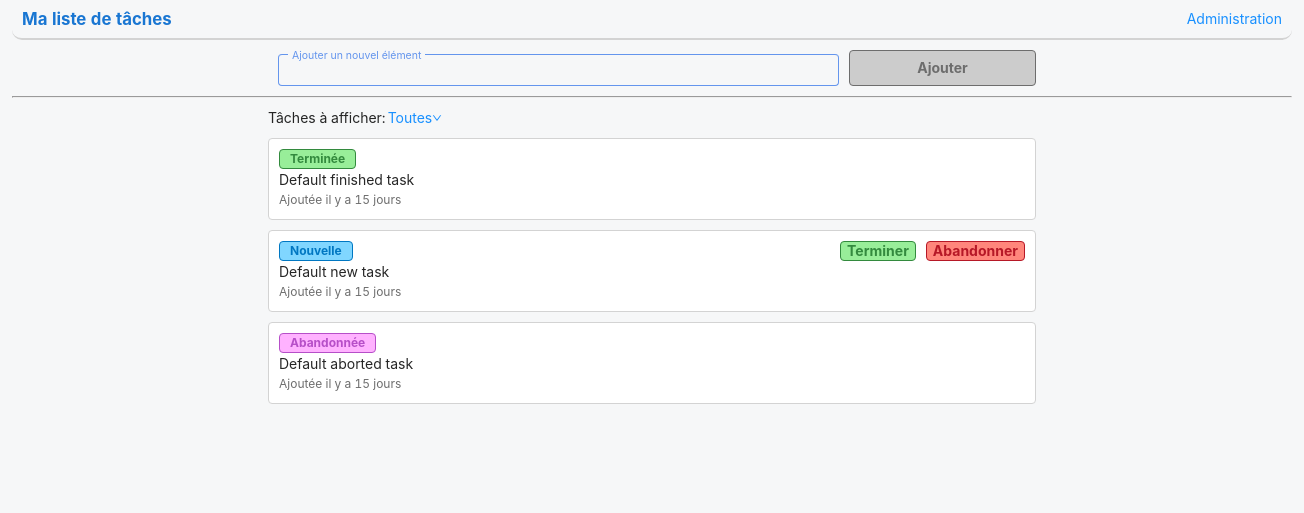
Todo list app › Display aborted todo list after add element
The image size is (1304, 513).
Type "Task added by Cypress :)" into the field with class "add-todo-item-input" at [559, 70], box [278,54,839,86]
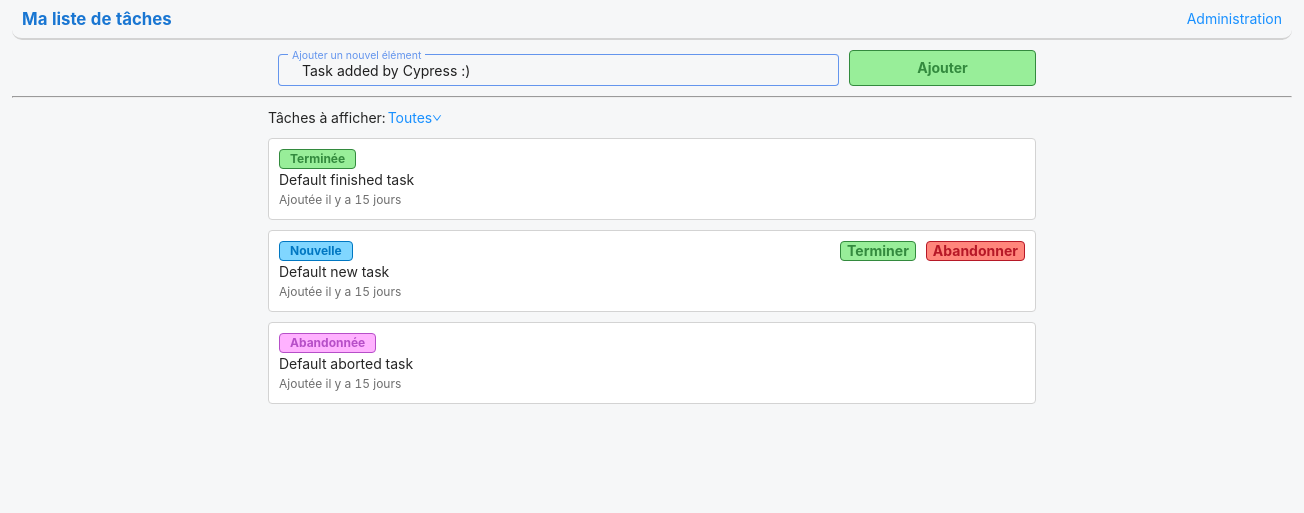
Press Enter in the field with class "add-todo-item-input", box [278,54,839,86]
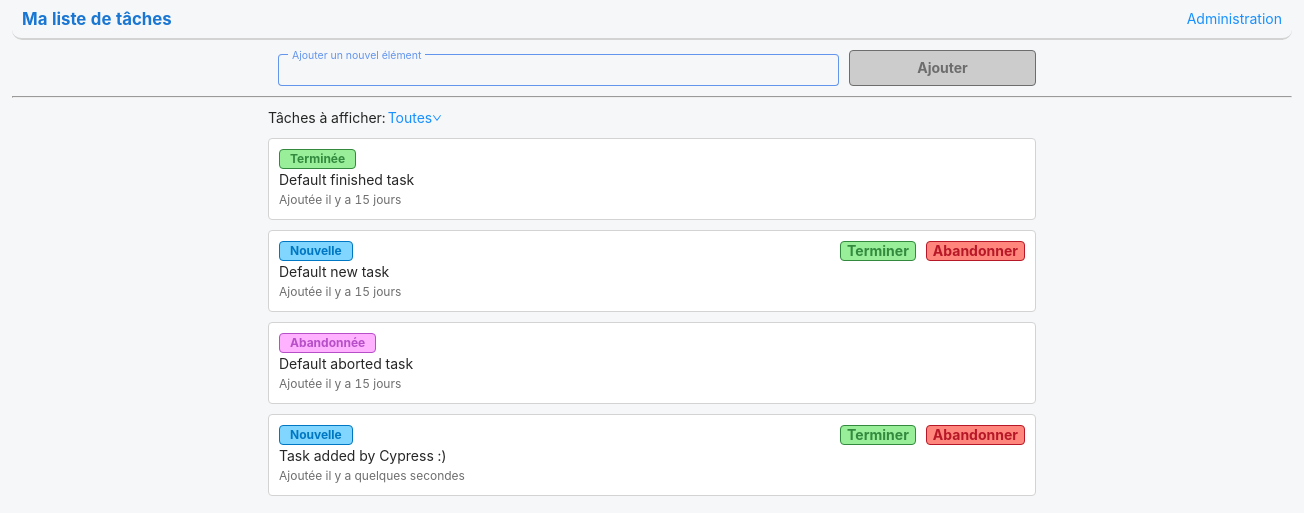
Click the 1st button with class "button-red" at [976, 251], box [926,241,1025,261]
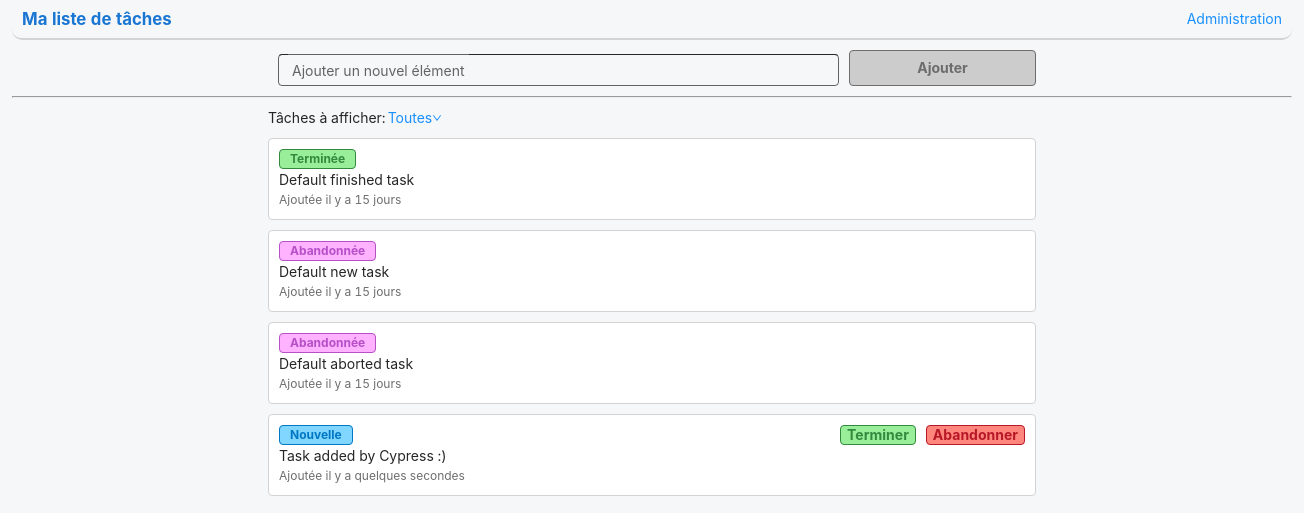
Click the link with class "filters-dropdown" at [416, 118], box [388,107,443,129]
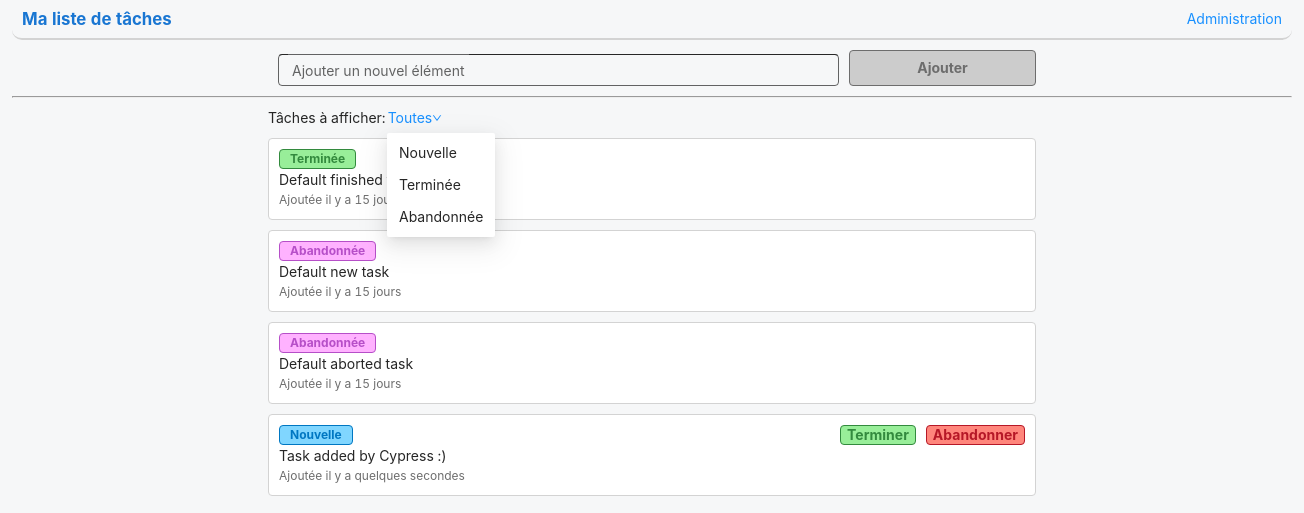
Click the link with class "aborted-filter-element" at [441, 217], box [399,208,483,225]
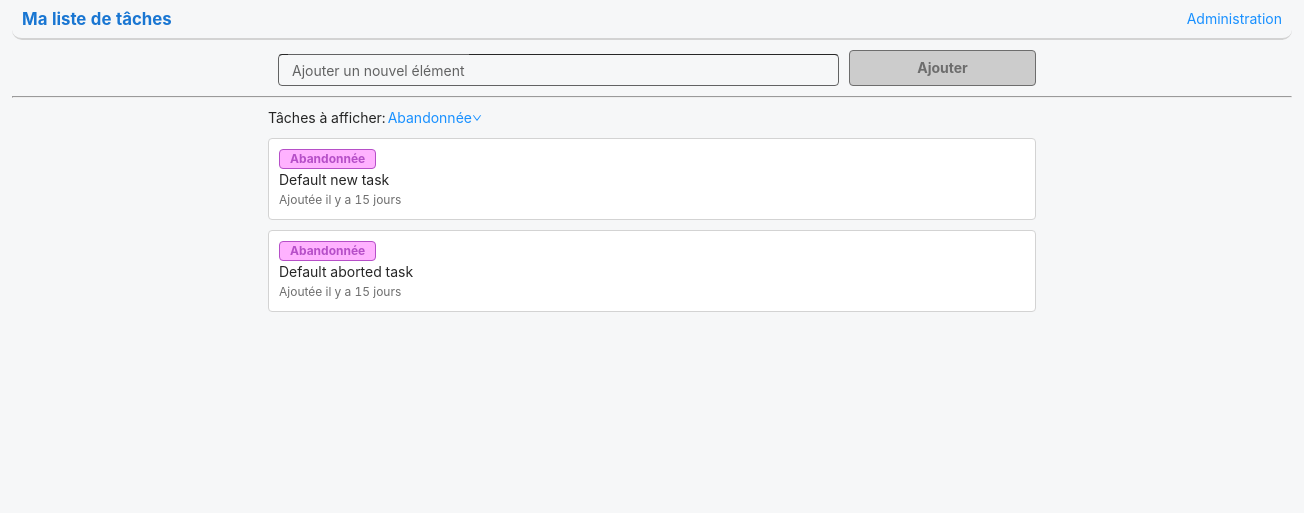
Result: the number of elements with class "todo-item" is 2 at [268,138,1036,220]; [268,230,1036,312]
